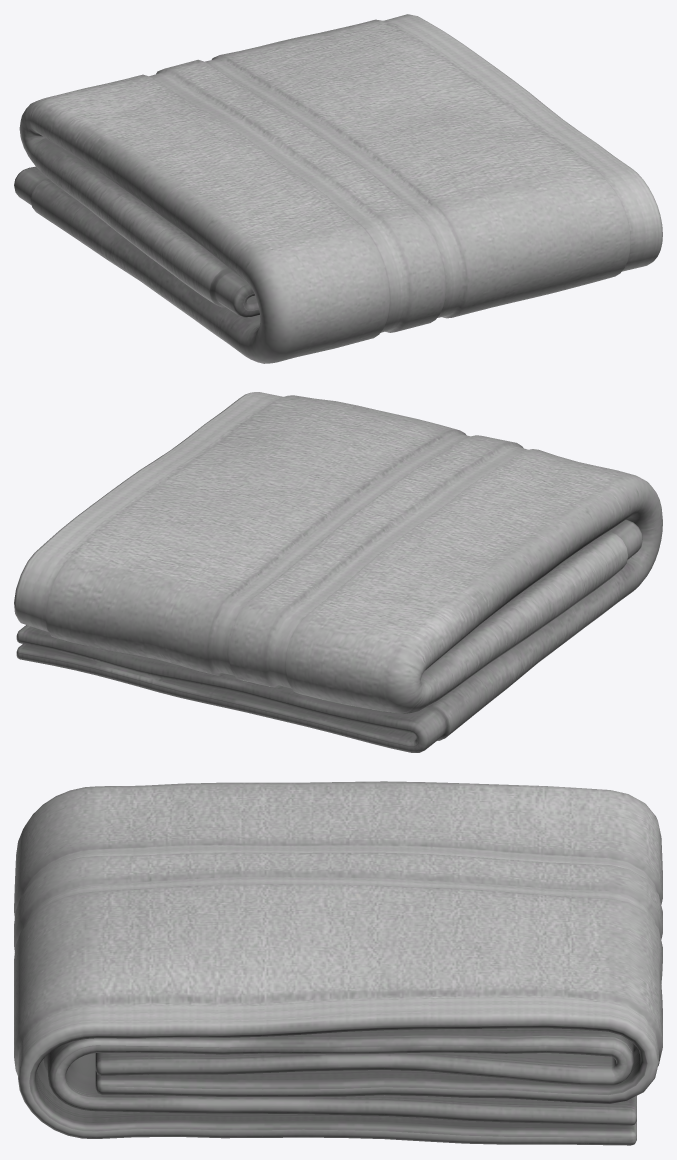
The model's file is towel2.gltf.
3 renders of one model, top to bottom at view 1: azimuth 30°, elevation 25°; view 2: azimuth 150°, elevation 25°; view 3: azimuth 270°, elevation 25°, orthographic. The views are drawn at different scales.
Visible parts, largest first — view 1: SM_Towel04Medium; view 2: SM_Towel04Medium; view 3: SM_Towel04Medium.
Boxes of the visible parts, box(x1,y1,x2,y2) form: SM_Towel04Medium: box(14, 14, 662, 363); SM_Towel04Medium: box(14, 392, 662, 752); SM_Towel04Medium: box(14, 781, 662, 1145).
Size of the model in its own units: 0.2395 by 0.0674 by 0.2674.
Materials: 1 (1 with a texture image).
